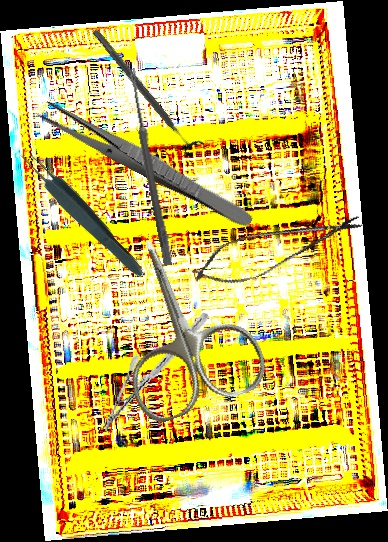Dressing Forceps: (35, 97, 258, 231)
Fixation Ring: (85, 23, 206, 159)
Iris Scissors: (85, 217, 274, 429)
Micro Scissor: (185, 198, 369, 298)
Needle Holder: (99, 295, 211, 449)
Surgical Spoon: (126, 67, 174, 267)
Tissue Forceps: (15, 143, 150, 283)
